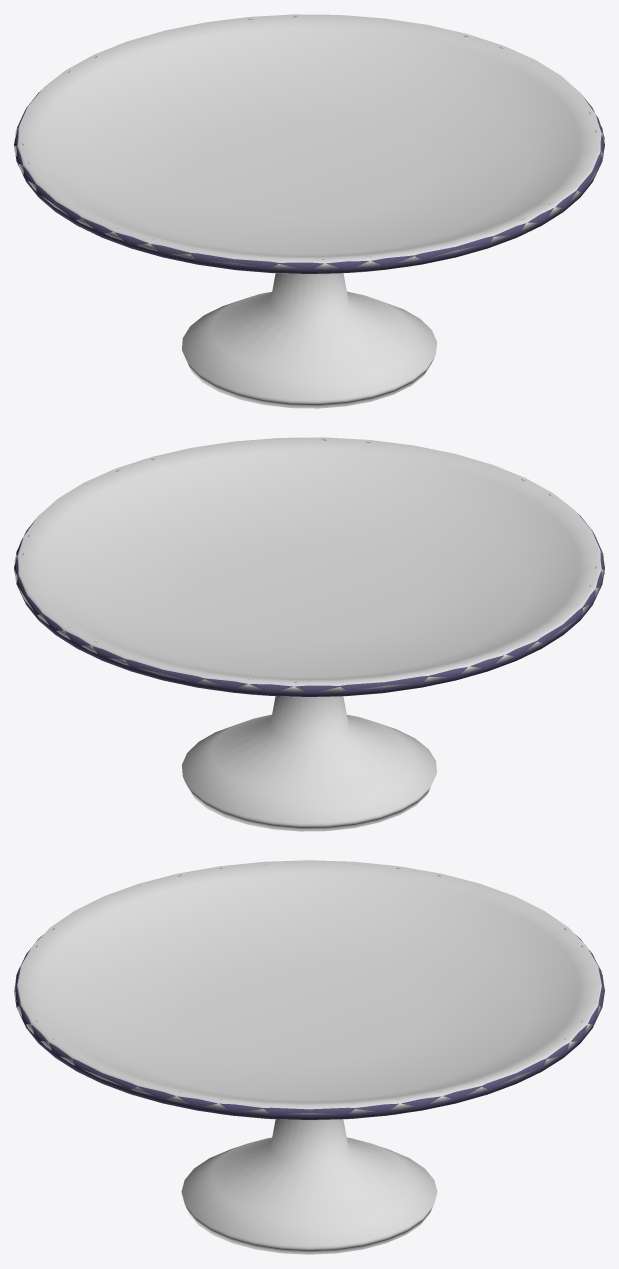
The model's file is CookiePlate.obj.
3 renders of one model, top to bottom at view 1: azimuth 30°, elevation 25°; view 2: azimuth 150°, elevation 25°; view 3: azimuth 270°, elevation 25°, orthographic.
Visible parts, largest first — view 1: Plate, Rim; view 2: Plate, Rim; view 3: Plate, Rim.
Part boxes in pixels (bbox=[...]): Plate: bbox=[14, 14, 604, 408]; Rim: bbox=[14, 16, 604, 273]; Plate: bbox=[14, 437, 604, 831]; Rim: bbox=[14, 439, 604, 696]; Plate: bbox=[14, 860, 604, 1254]; Rim: bbox=[14, 864, 604, 1119].
Bounding box in the file's own units: 6 × 2.46 × 6.
